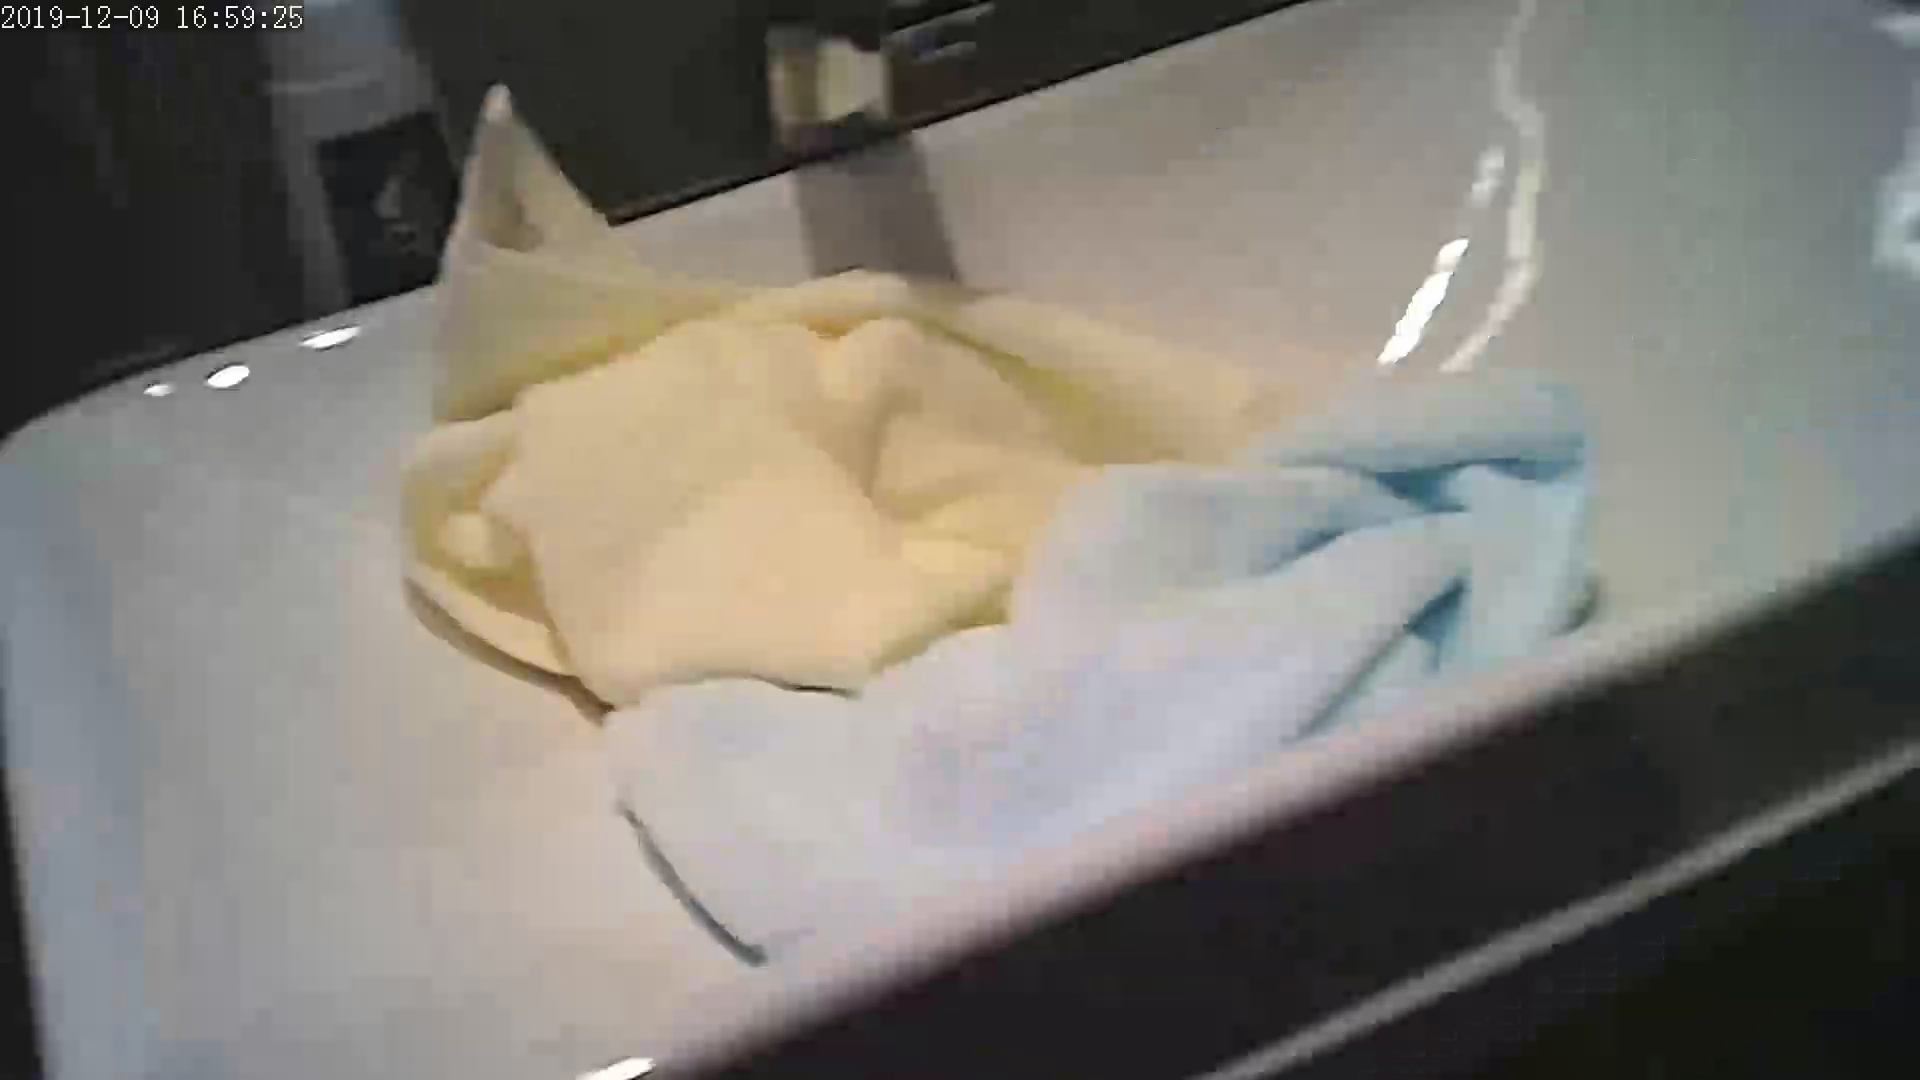bluecloth: (968, 435, 1590, 873)
sink: (24, 17, 1883, 1054)
yellowcloth: (388, 264, 910, 667)
